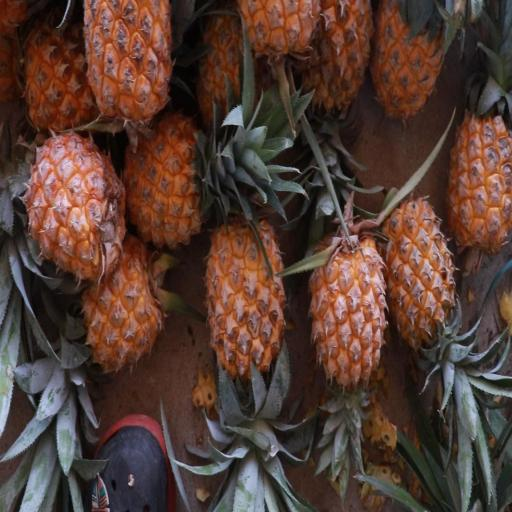Pineapple - v8 v1: (98, 104, 222, 252), (203, 206, 290, 416), (21, 125, 132, 289), (304, 215, 392, 398), (377, 190, 460, 383), (79, 228, 173, 383), (78, 0, 176, 139), (443, 82, 512, 272), (368, 0, 450, 127)
